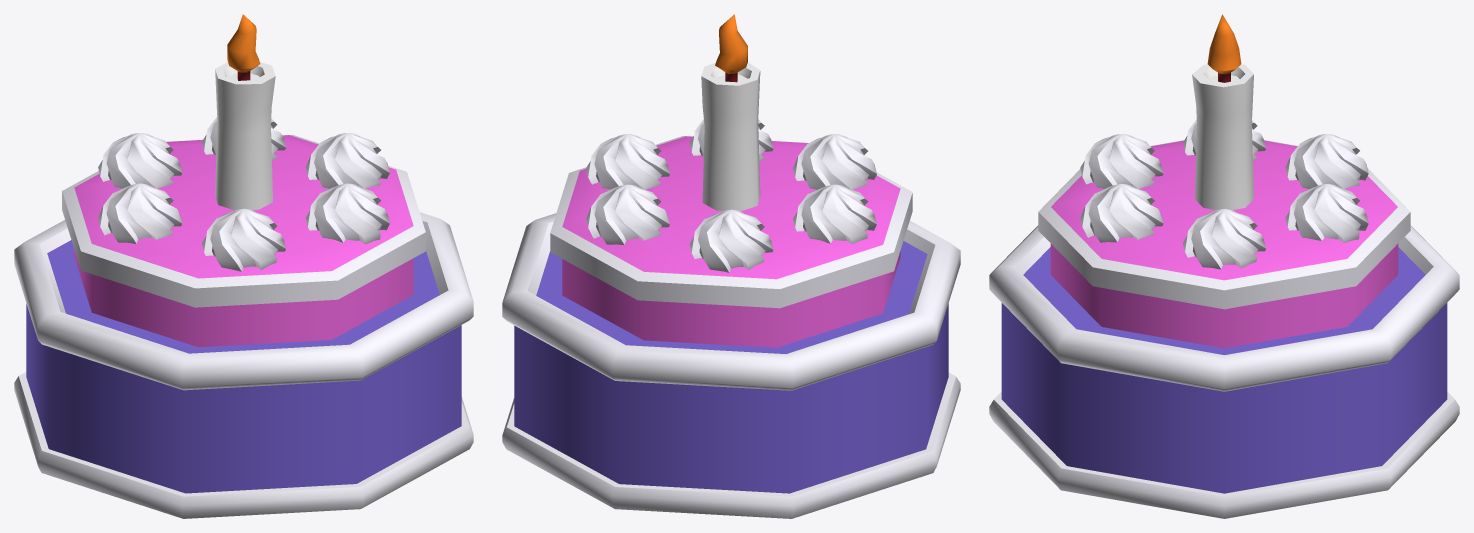
The model's file is Cake.fbx.
The picture shows the model from 3 angles, left to right: view 1: azimuth 30°, elevation 25°; view 2: azimuth 150°, elevation 25°; view 3: azimuth 270°, elevation 25°; orthographic projection.
Visible parts, largest first — view 1: Cake; view 2: Cake; view 3: Cake.
Boxes of the visible parts, x1,y1,x2,y2 form: Cake: (14,14,473,518); Cake: (502,14,960,518); Cake: (989,14,1459,518).
Bounding box in the file's own units: 267 × 255 × 267.
